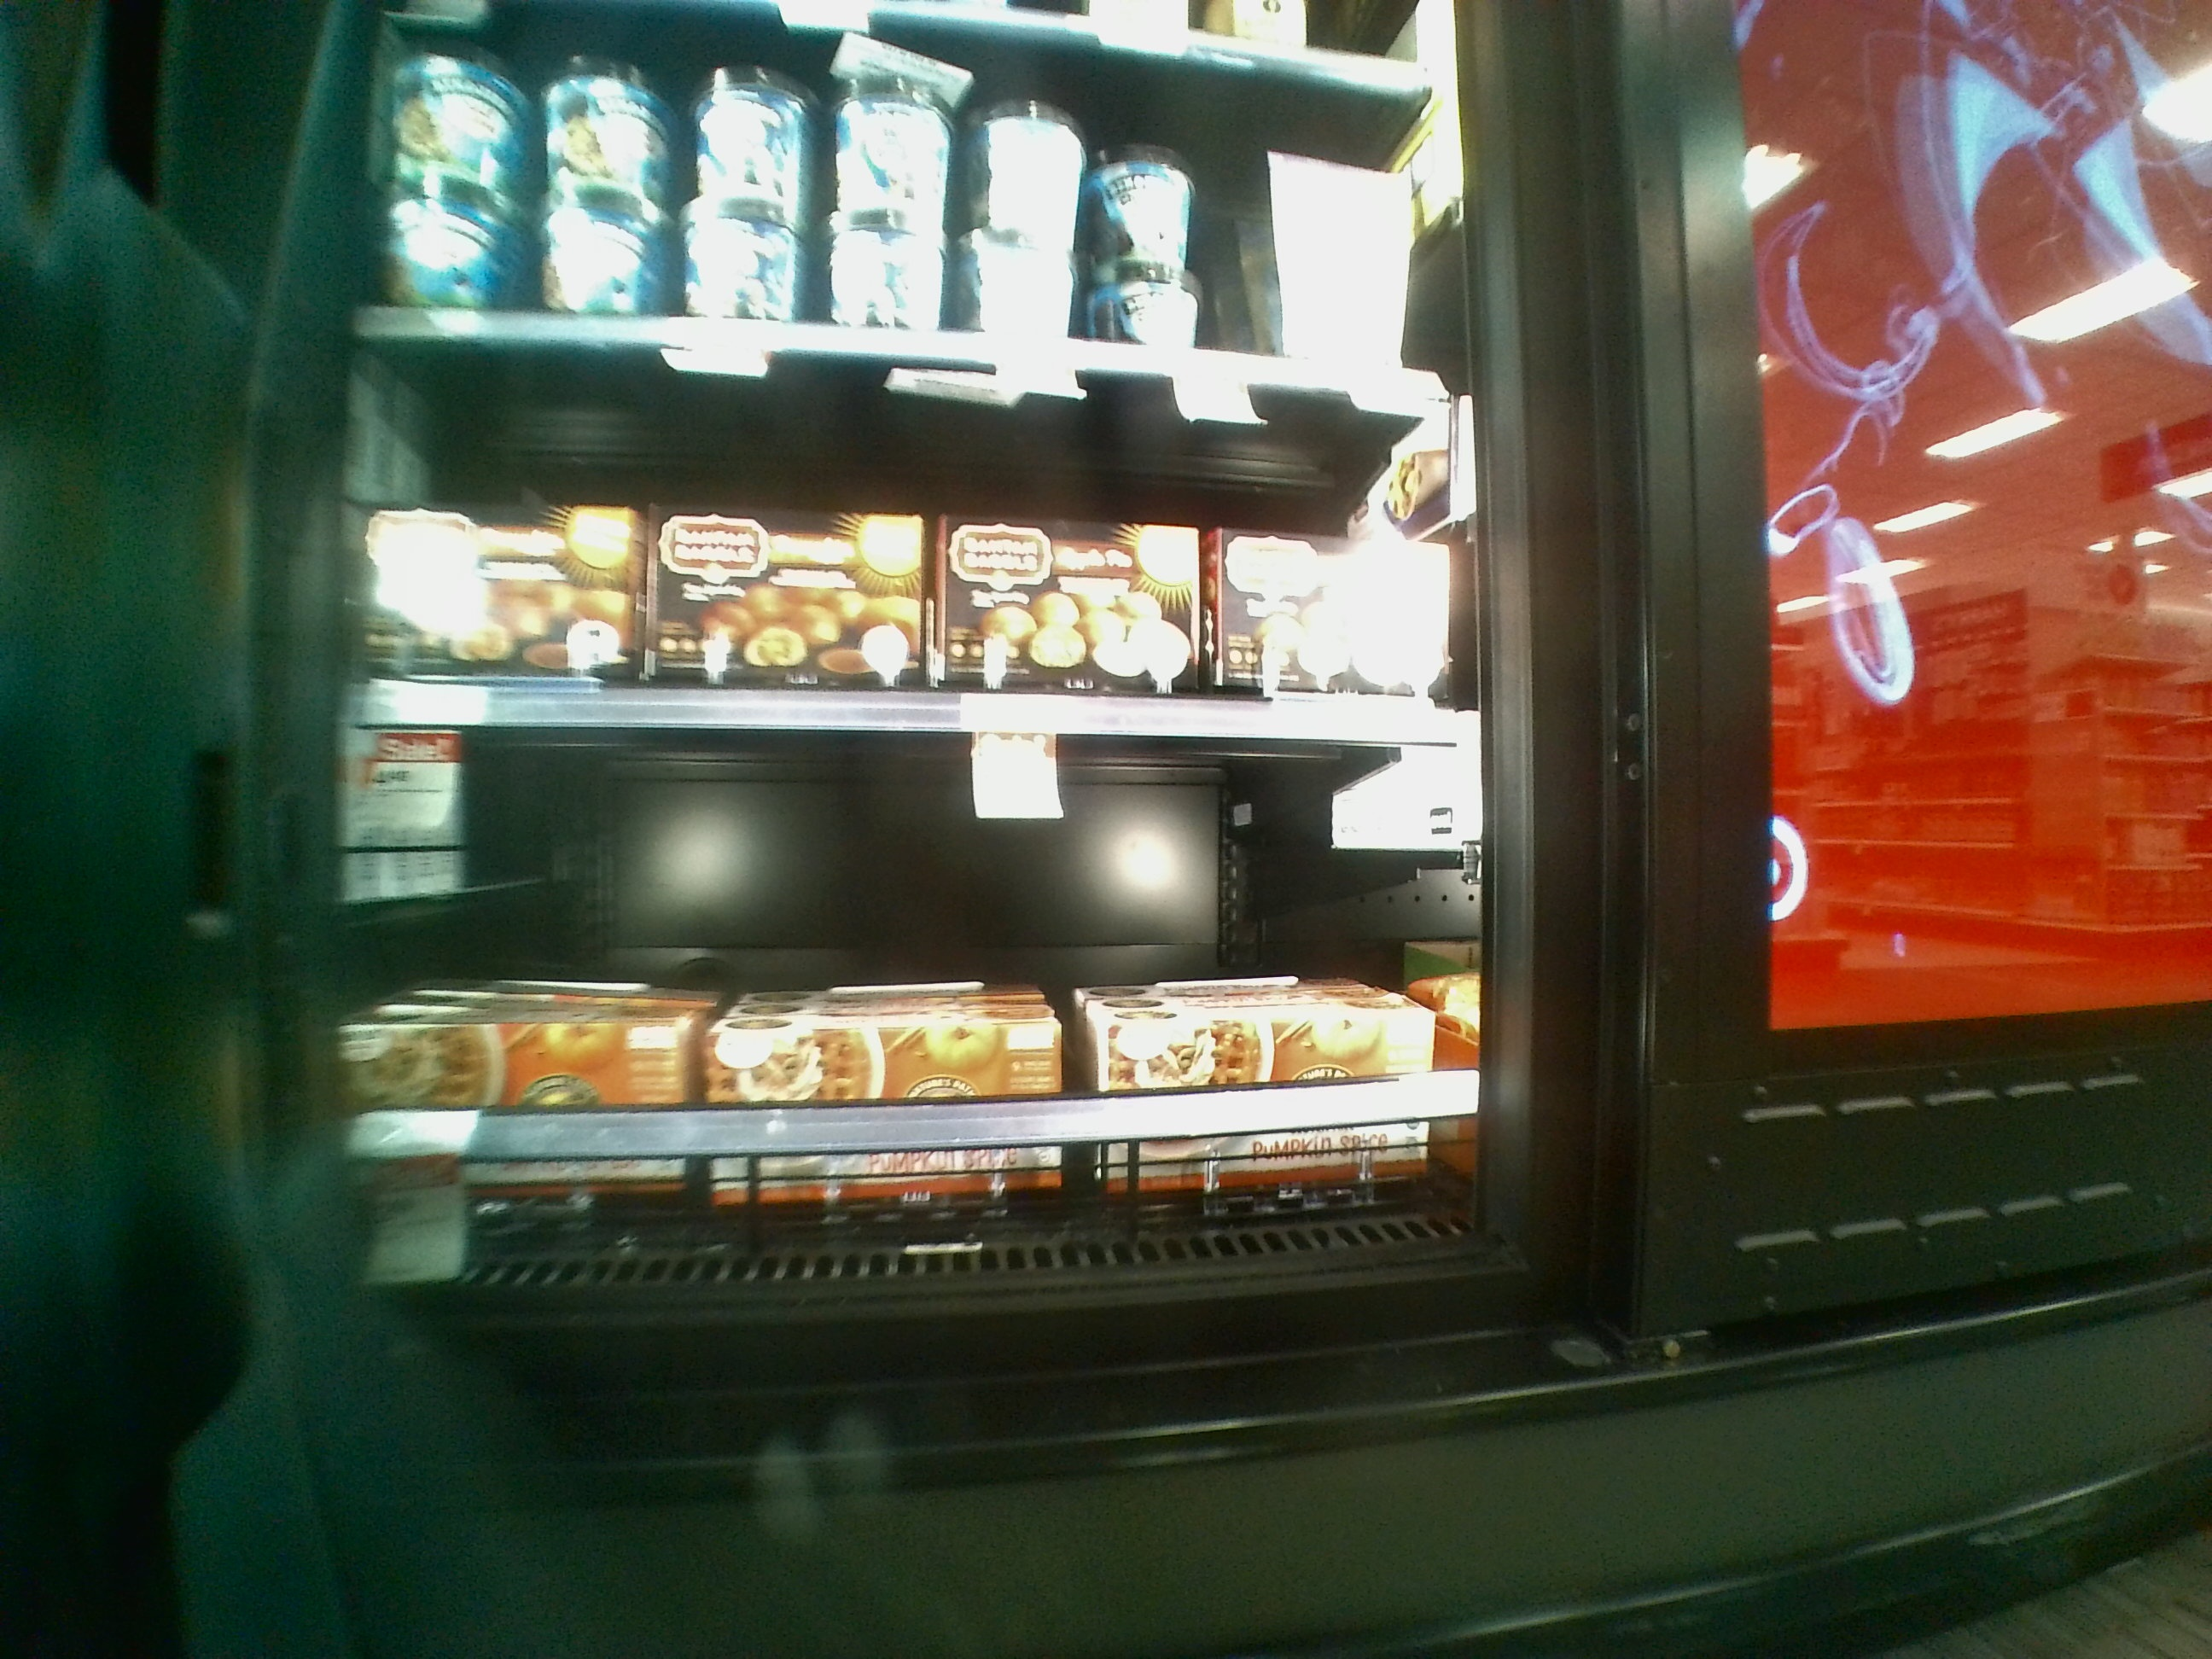shelf: (333, 704, 1508, 1286), (341, 329, 1470, 735)
